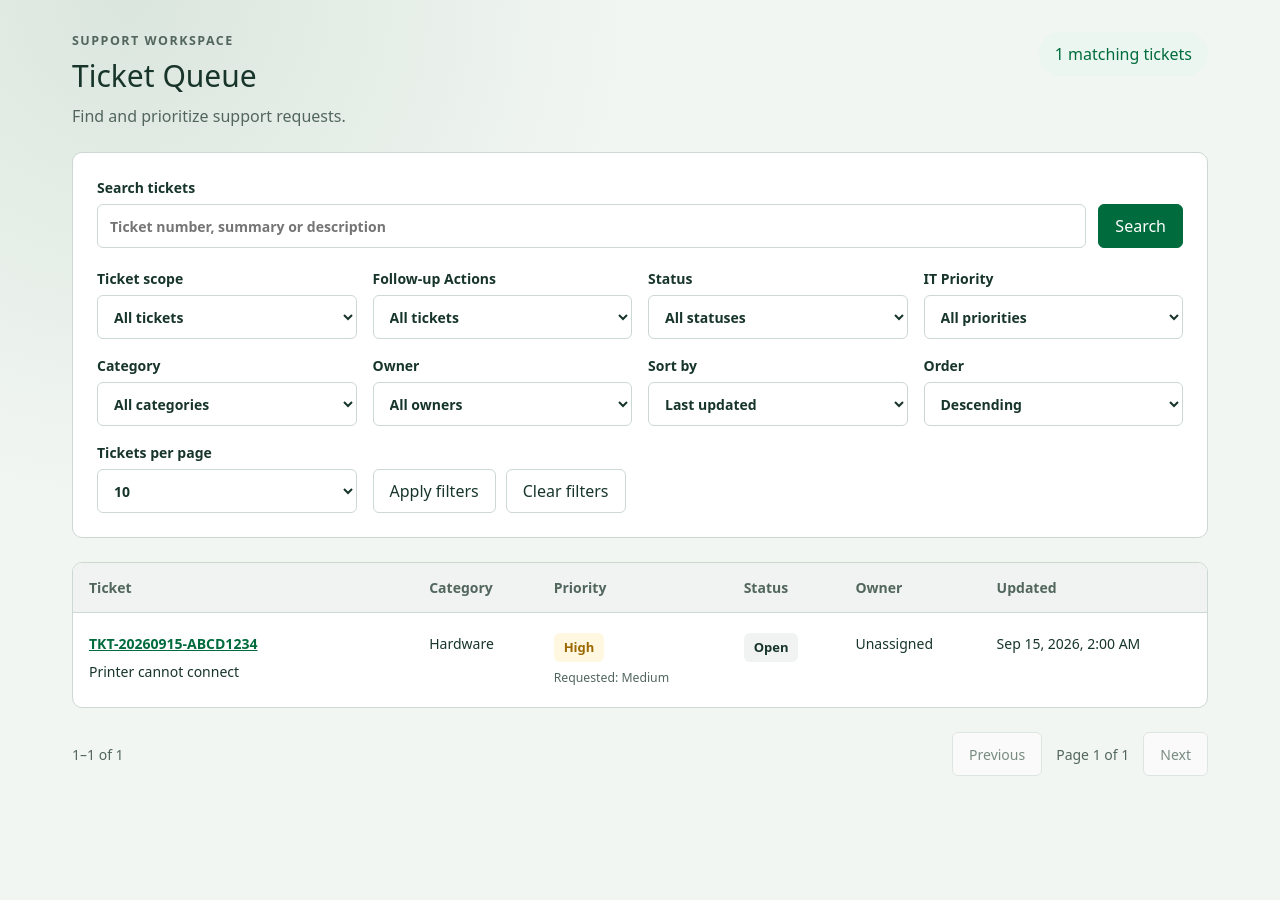
Test: UI-04 queue › replaces prior results with a safe failure and supports retry
Check: the text "1 matching tickets" is shown, box [1039, 32, 1208, 76]
Click the button "Search".
click(1141, 226)  # box [1098, 204, 1183, 248]
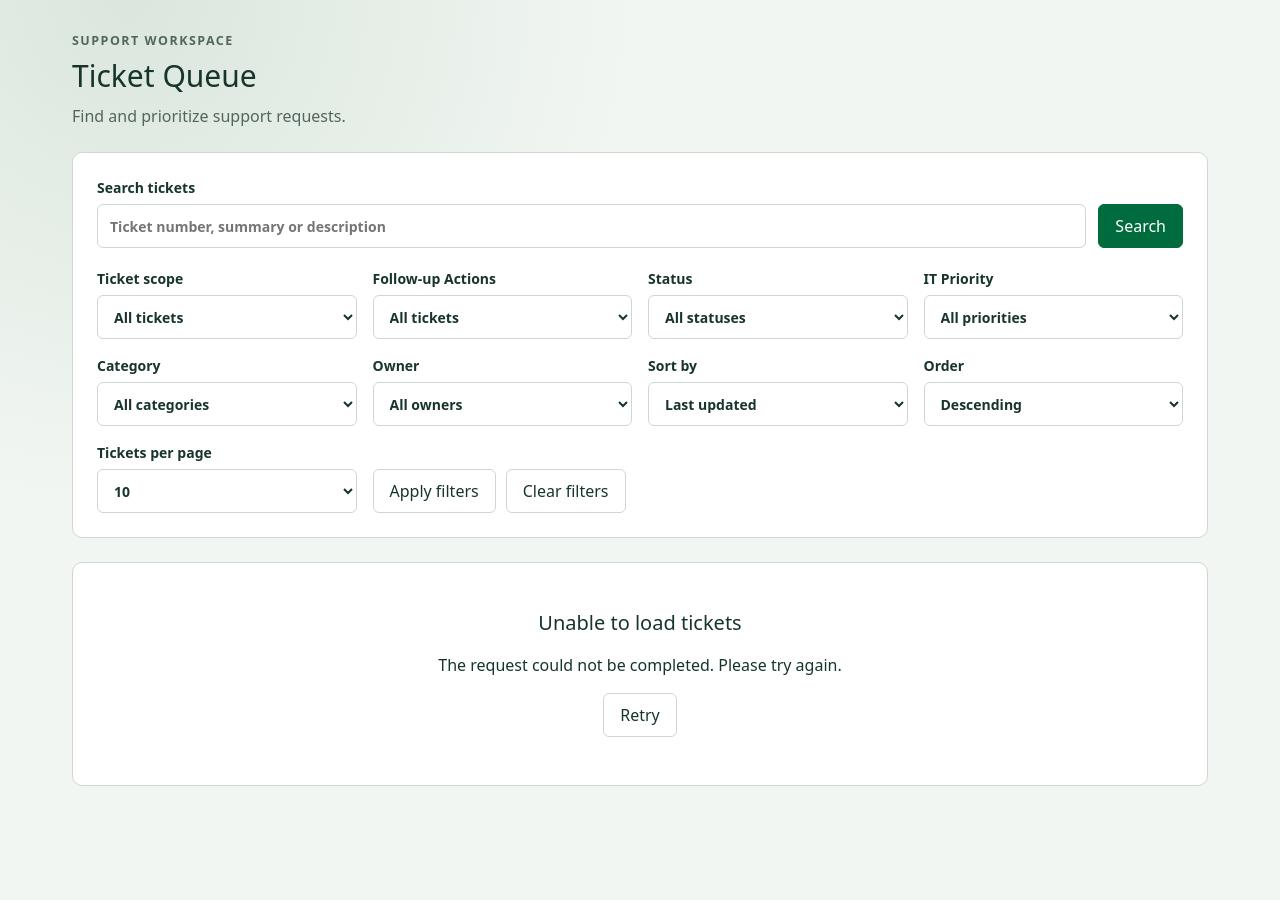
Check: the heading "Unable to load tickets" is shown, box [538, 609, 742, 636]
Check: the link "TKT-20260915-ABCD1234" is gone
Click the button "Retry".
click(640, 715)  # box [603, 693, 677, 737]
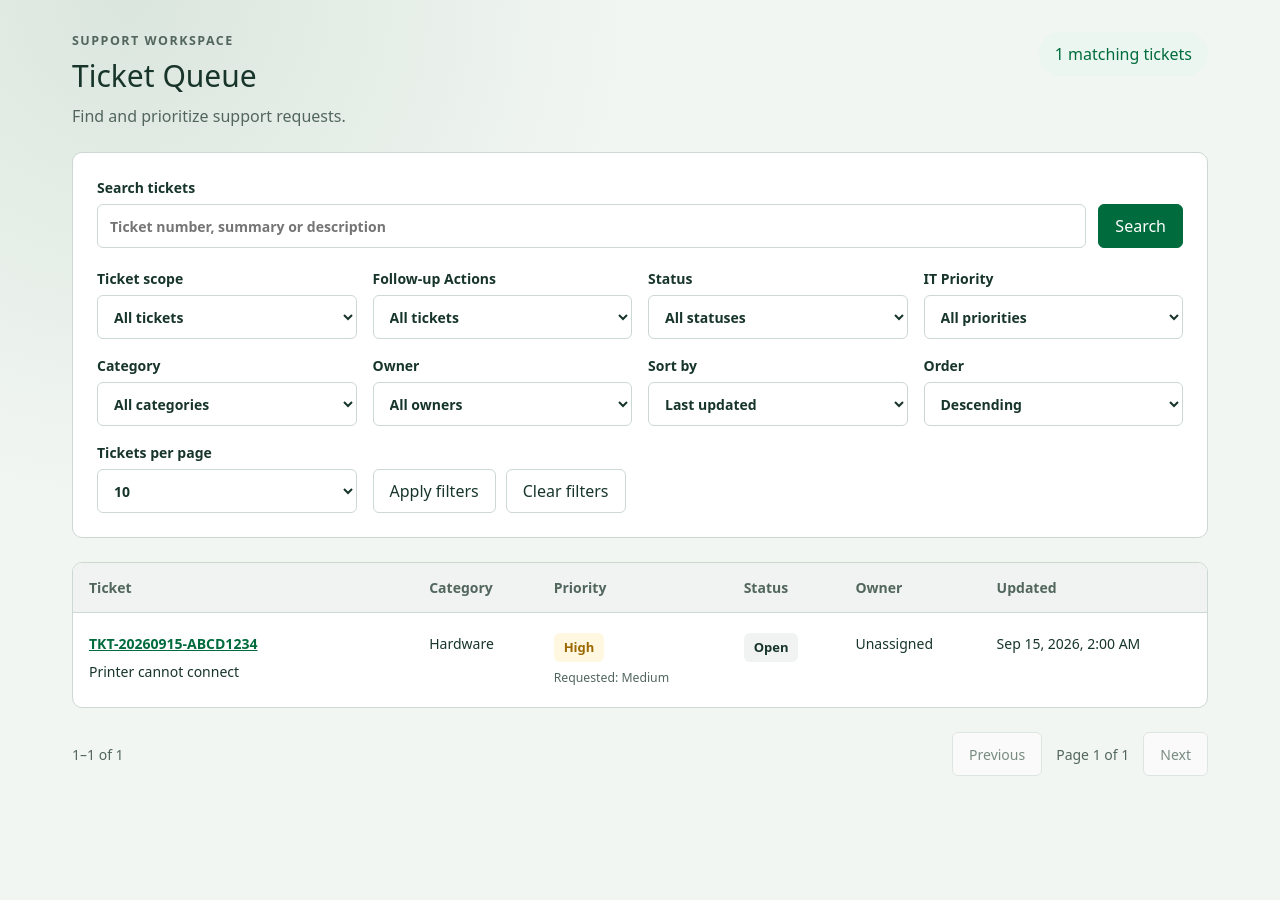
Check: the text "1 matching tickets" is shown, box [1039, 32, 1208, 76]
